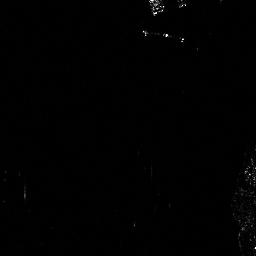ship: (141, 28, 185, 43)
